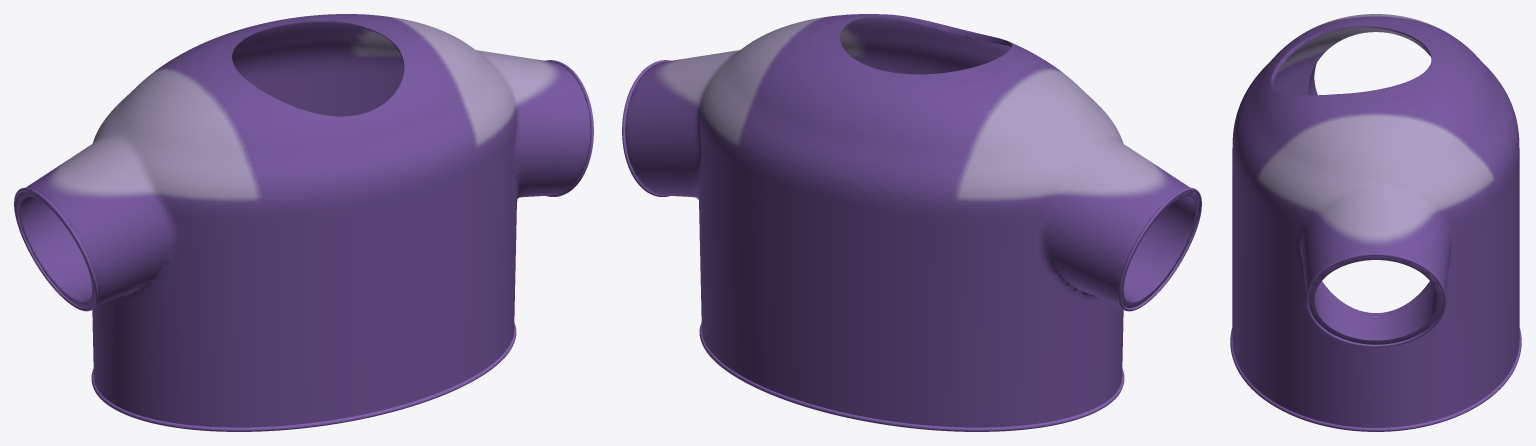
The model's file is Masculine-jersey-top.glb.
3 renders of one model, left to right at view 1: azimuth 30°, elevation 25°; view 2: azimuth 150°, elevation 25°; view 3: azimuth 270°, elevation 25°, orthographic. The views are drawn at different scales.
Parts seen in each view (by area): view 1: Clothing / jersey, Shirt / hem export, Sleeve / open cuff -1 export, Sleeve / open cuff 1 export; view 2: Clothing / jersey, Shirt / hem export, Sleeve / open cuff -1 export, Sleeve / open cuff 1 export; view 3: Clothing / jersey, Shirt / hem export, Sleeve / open cuff 1 export.
Part boxes in pixels (x1,y1,x2,y2): Clothing / jersey: [17, 14, 590, 427]; Shirt / hem export: [91, 323, 516, 431]; Sleeve / open cuff -1 export: [14, 187, 98, 311]; Sleeve / open cuff 1 export: [545, 60, 593, 196]; Clothing / jersey: [625, 14, 1198, 427]; Shirt / hem export: [699, 323, 1124, 431]; Sleeve / open cuff -1 export: [1117, 187, 1201, 311]; Sleeve / open cuff 1 export: [622, 60, 670, 196]; Clothing / jersey: [1232, 14, 1519, 427]; Shirt / hem export: [1230, 328, 1521, 431]; Sleeve / open cuff 1 export: [1305, 252, 1446, 347].
Bounding box in the file's own units: 1.04 × 0.5805 × 0.536.
